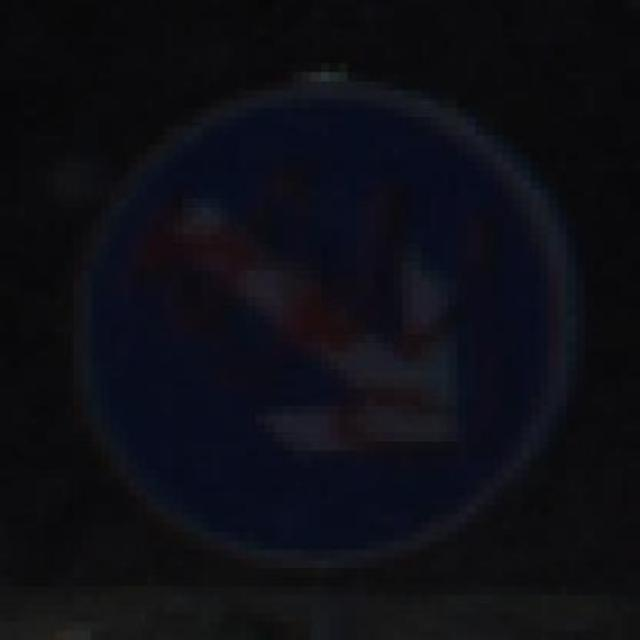Keep-Right: (73, 80, 595, 594)
